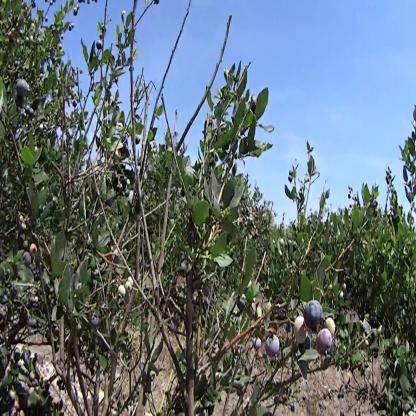intermediate: (319, 332, 334, 354)
mature: (308, 300, 322, 332), (15, 76, 30, 98), (267, 334, 281, 357)
young: (293, 317, 307, 345), (325, 318, 337, 336)
